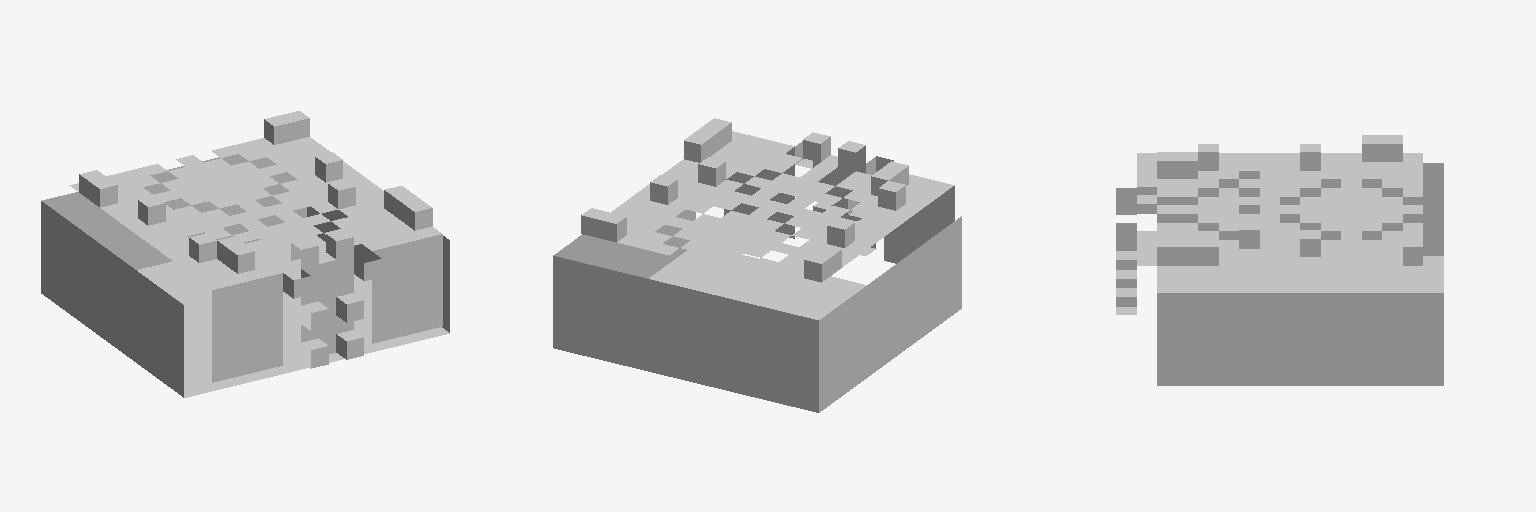
The picture shows the model from 3 angles: view 1: azimuth 30°, elevation 25°; view 2: azimuth 150°, elevation 25°; view 3: azimuth 270°, elevation 25°; orthographic projection.
Visible parts, largest first — view 1: ObjObject; view 2: ObjObject; view 3: ObjObject.
Part boxes in pixels (x1,y1,x2,y2): ObjObject: (41,111,449,397); ObjObject: (553,118,961,412); ObjObject: (1116,135,1443,385).
Bounding box in the file's own units: 1.5 × 0.7 × 1.6.
1 materials, 1 textured.